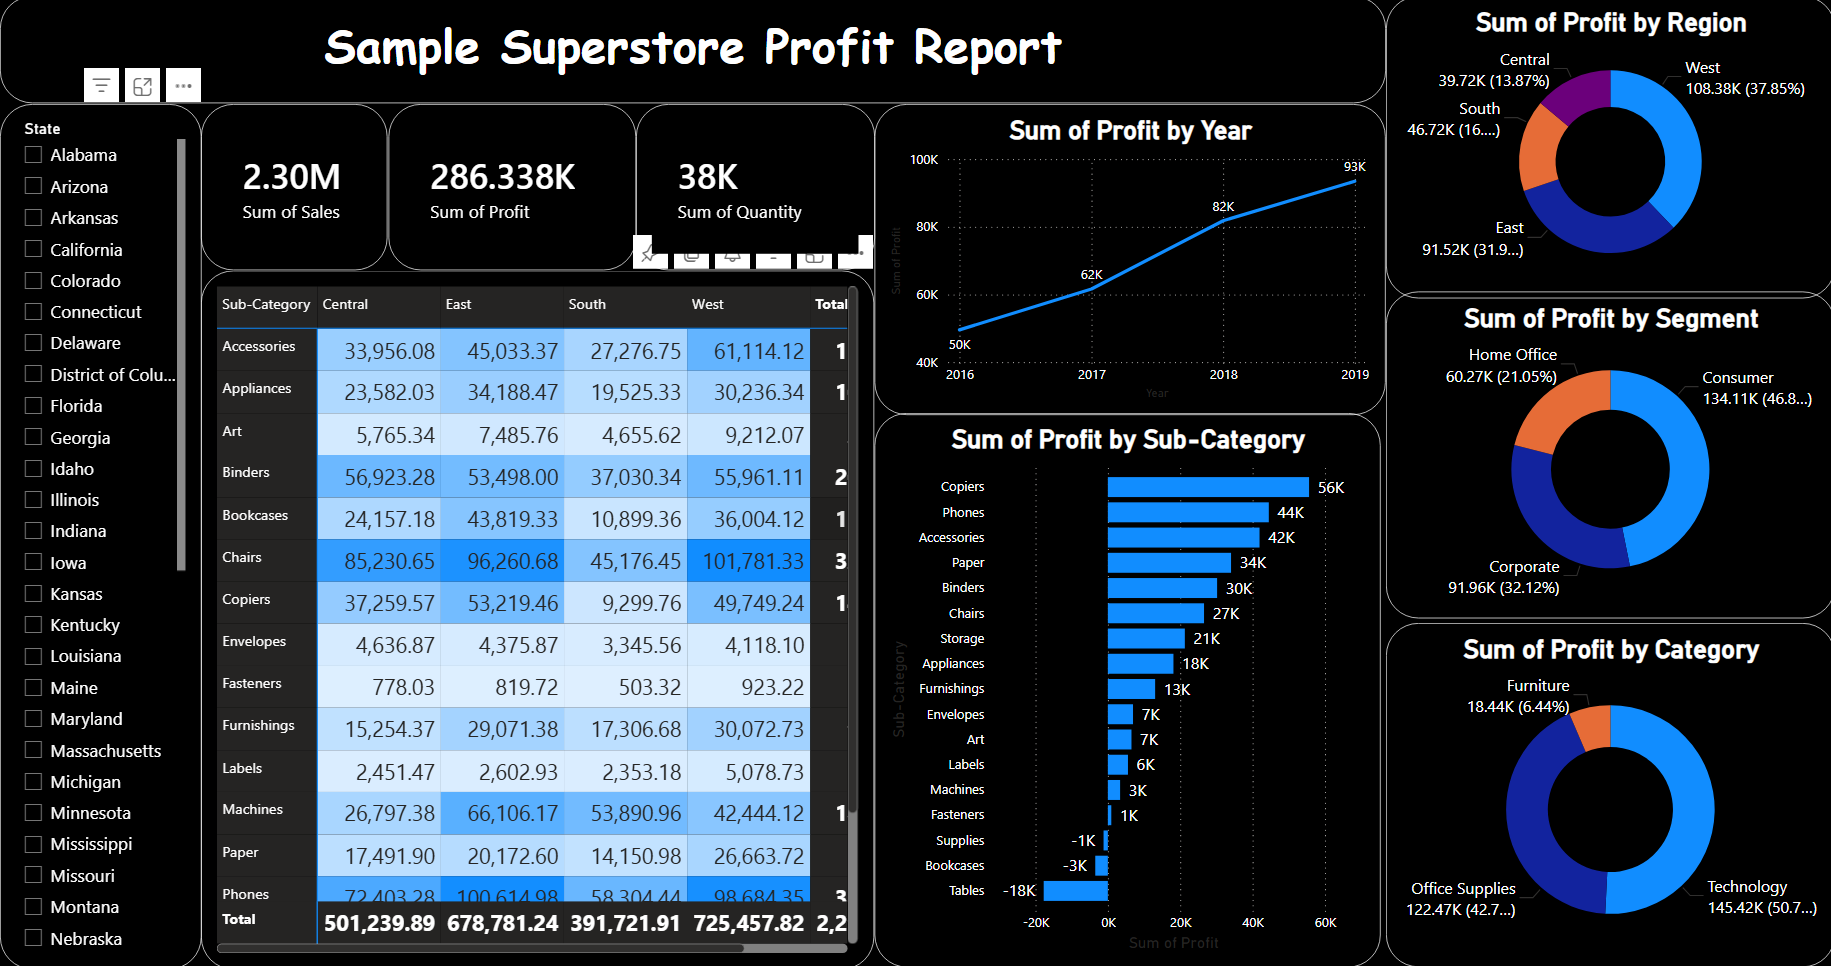

The dashboard page shown, as its layout file describes it:
{"tool":"powerbi","page":{"name":"Page 2","canvas":[1700,900],"ordinal":1},"visuals":[{"type":"textbox","box":[0,0,1283.1,99.5],"z":0},{"type":"donutChart","fields":{"Category":["Orders.Category"],"Y":["Sum(Orders.Profit)"]},"box":[1283.1,580.7,416.2,318.8],"z":1000},{"type":"donutChart","fields":{"Y":["Sum(Orders.Profit)"],"Category":["Orders.Segment"]},"box":[1283.1,274.1,416.2,302.5],"z":2000},{"type":"donutChart","fields":{"Y":["Sum(Orders.Profit)"],"Category":["Orders.Region"]},"box":[1283.1,0,416.2,280.2],"z":3000},{"type":"barChart","fields":{"Category":["Orders.Sub-Category"],"Y":["Sum(Orders.Profit)"]},"box":[810.1,385.8,469,513.7],"z":4000},{"type":"lineChart","fields":{"Category":["Orders.Order Date.Variation.Date Hierarchy.Year","Orders.Order Date.Variation.Date Hierarchy.Quarter","Orders.Order Date.Variation.Date Hierarchy.Month","Orders.Order Date.Variation.Date Hierarchy.Day"],"Y":["Sum(Orders.Profit)"]},"box":[810.1,99.5,473.1,288.3],"z":5000},{"type":"slicer","fields":{"Values":["Orders.State"]},"box":[0,99.4,186.9,801.3],"z":6000},{"type":"pivotTable","fields":{"Rows":["Orders.Sub-Category"],"Values":["Sum(Orders.Sales)"],"Columns":["Orders.Region"]},"box":[186.8,253.8,623.3,647.7],"z":7000},{"type":"cardVisual","fields":{"Data":["Sum(Orders.Sales)"]},"box":[186.8,99.5,172.6,154.3],"z":8000},{"type":"cardVisual","fields":{"Data":["Sum(Orders.Profit)"]},"box":[359.4,99.5,229.4,154.3],"z":9000},{"type":"cardVisual","fields":{"Data":["Sum(Orders.Quantity)"]},"box":[588.8,99.5,221.3,154.3],"z":10000}]}

Visuals, with their boxes in screenshot pixels (x1, y1, x2, y2), scaled from the page's 1700x900 canvas onto the 1831x966 screenshot:
textbox: (left=0, top=0, right=1382, bottom=107)
donutChart - Orders.Category x Sum(Orders.Profit): (left=1382, top=623, right=1830, bottom=965)
donutChart - Sum(Orders.Profit) x Orders.Segment: (left=1382, top=294, right=1830, bottom=619)
donutChart - Sum(Orders.Profit) x Orders.Region: (left=1382, top=0, right=1830, bottom=301)
barChart - Orders.Sub-Category x Sum(Orders.Profit): (left=873, top=414, right=1378, bottom=965)
lineChart - Orders.Order Date.Variation.Date Hierarchy.Year x Orders.Order Date.Variation.Date Hierarchy.Quarter: (left=873, top=107, right=1382, bottom=416)
slicer - Orders.State: (left=0, top=107, right=201, bottom=965)
pivotTable - Orders.Sub-Category x Sum(Orders.Sales): (left=201, top=272, right=873, bottom=965)
cardVisual - Sum(Orders.Sales): (left=201, top=107, right=387, bottom=272)
cardVisual - Sum(Orders.Profit): (left=387, top=107, right=634, bottom=272)
cardVisual - Sum(Orders.Quantity): (left=634, top=107, right=873, bottom=272)
